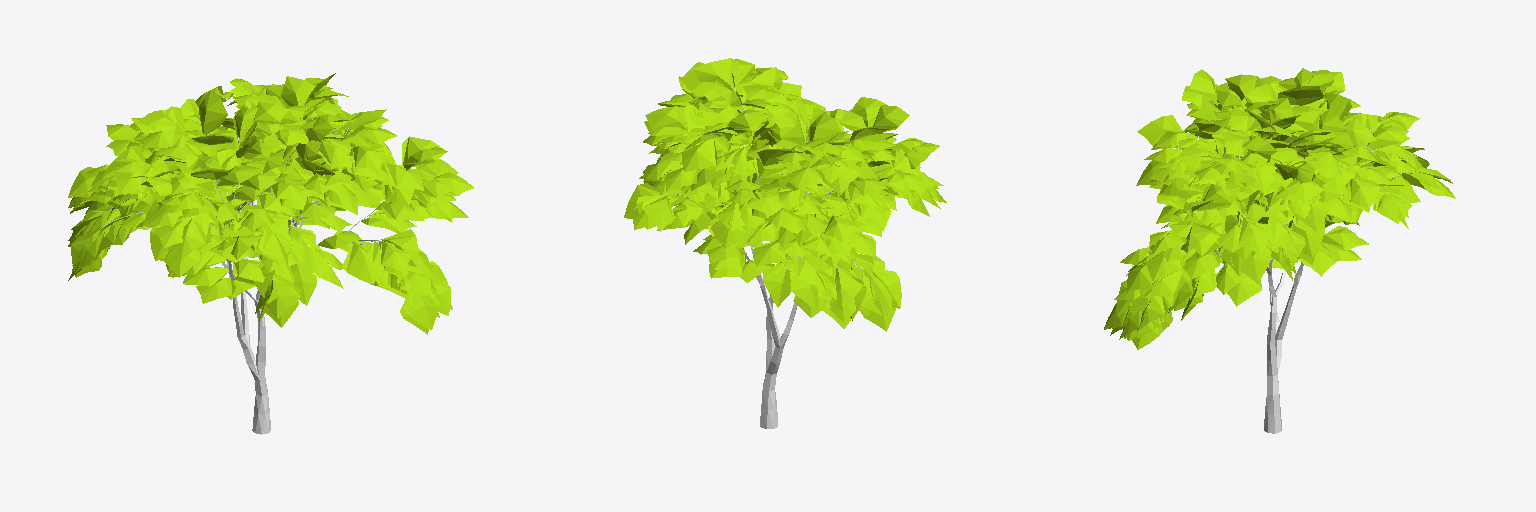
3 renders of one model, left to right at view 1: azimuth 30°, elevation 25°; view 2: azimuth 150°, elevation 25°; view 3: azimuth 270°, elevation 25°, orthographic.
Parts seen in each view (by area): view 1: Tree_polySurface1 g1 g2 polySurface1, Tree_polySurface1 g1 polySurface1; view 2: Tree_polySurface1 g1 g2 polySurface1, Tree_polySurface1 g1 polySurface1; view 3: Tree_polySurface1 g1 g2 polySurface1, Tree_polySurface1 g1 polySurface1.
Boxes of the visible parts, box(x1,y1,x2,y2) form: Tree_polySurface1 g1 g2 polySurface1: box(68, 73, 473, 334); Tree_polySurface1 g1 polySurface1: box(93, 97, 404, 434); Tree_polySurface1 g1 g2 polySurface1: box(624, 58, 946, 331); Tree_polySurface1 g1 polySurface1: box(667, 88, 890, 428); Tree_polySurface1 g1 g2 polySurface1: box(1104, 68, 1455, 349); Tree_polySurface1 g1 polySurface1: box(1198, 102, 1413, 433).
Size of the model in its own units: 3.63 by 3.82 by 3.55.
Materials: 2 (1 with a texture image).